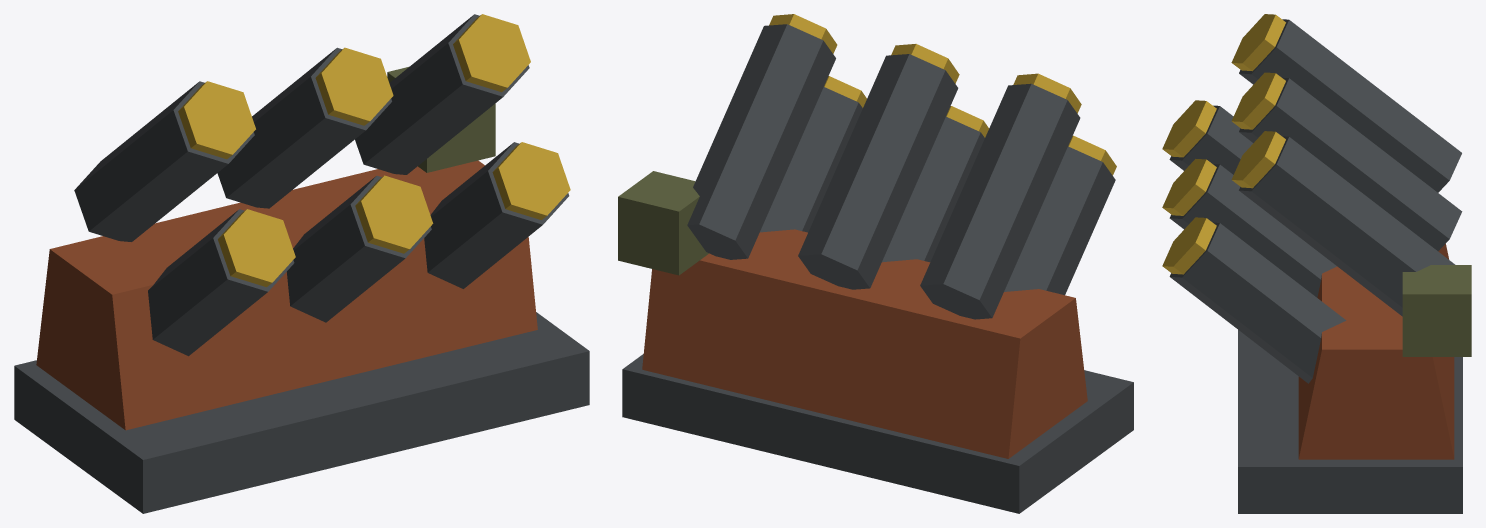
Rendered from upg_smoke_launcher.glb.
The picture shows the model from 3 angles, left to right: view 1: azimuth 30°, elevation 25°; view 2: azimuth 150°, elevation 25°; view 3: azimuth 270°, elevation 25°; orthographic projection. The views are drawn at different scales.
Visible parts, largest first — view 1: smoke_launcher; view 2: smoke_launcher; view 3: smoke_launcher.
Part boxes in pixels (x1=…): smoke_launcher: x1=14, y1=14, x2=589, y2=513; smoke_launcher: x1=618, y1=14, x2=1133, y2=513; smoke_launcher: x1=1162, y1=14, x2=1471, y2=513.
Bounding box in the file's own units: 0.52 × 0.4407 × 0.3576.
